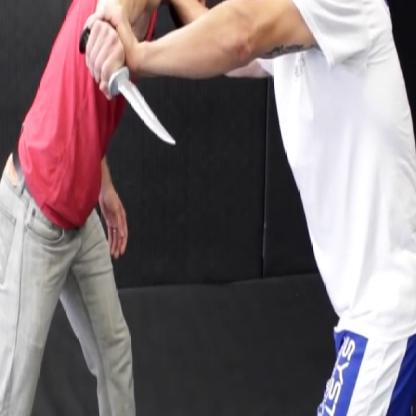knife: (71, 18, 184, 156)
